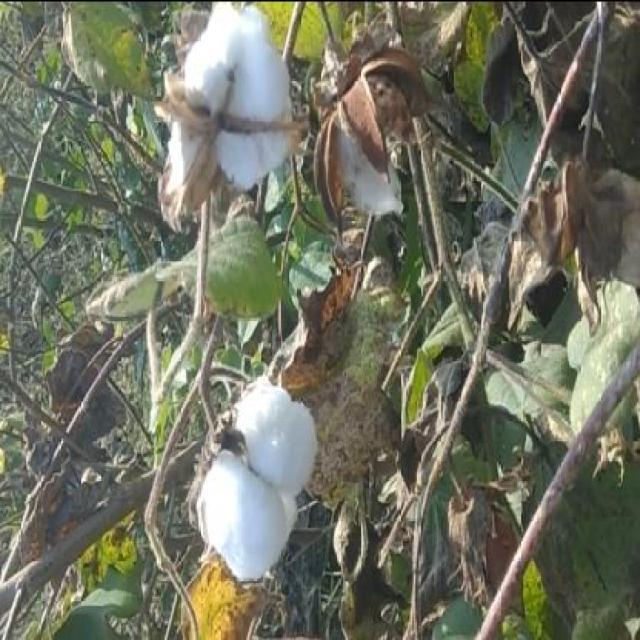cotton_ready: (129, 4, 308, 238), (177, 355, 346, 563)
